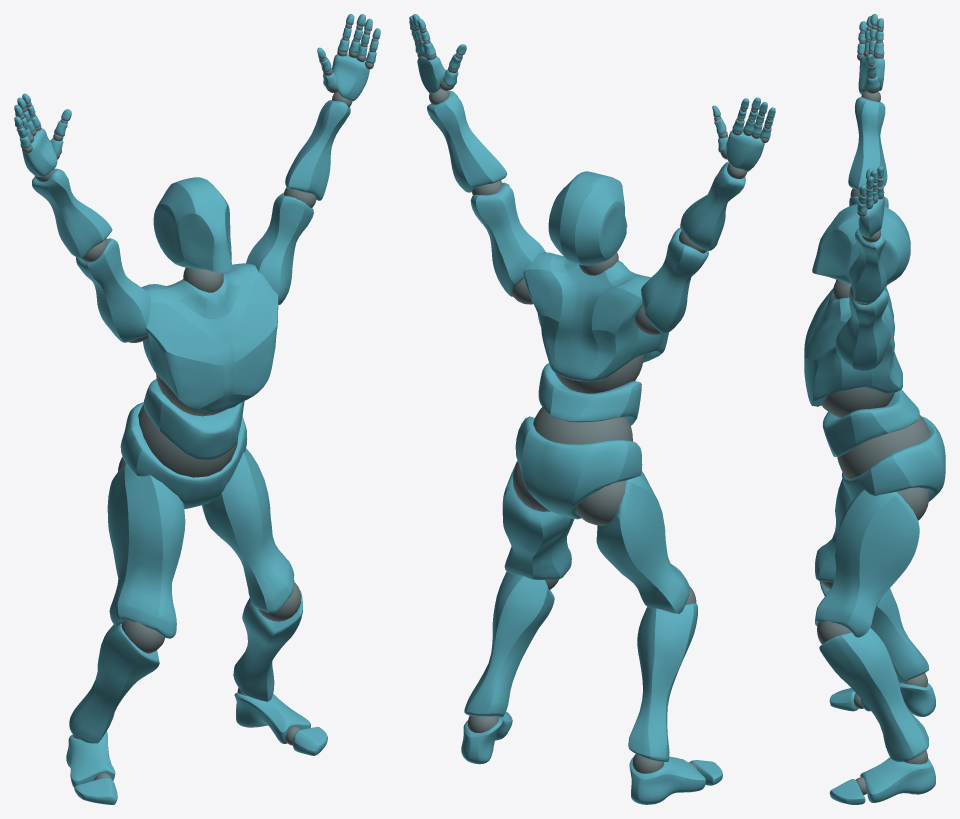
File: YBot_PostBumpPose.fbx
3 views of the same model, side by side, from view 1: azimuth 30°, elevation 25°; view 2: azimuth 150°, elevation 25°; view 3: azimuth 270°, elevation 25° (orthographic). The views are drawn at different scales.
Parts seen in each view (by area): view 1: Alpha_Surface, Alpha_Joints; view 2: Alpha_Surface, Alpha_Joints; view 3: Alpha_Surface, Alpha_Joints.
Boxes of the visible parts, x1,y1,x2,y2 form: Alpha_Surface: (14, 14, 380, 804); Alpha_Joints: (16, 24, 378, 780); Alpha_Surface: (409, 14, 775, 804); Alpha_Joints: (411, 27, 773, 773); Alpha_Surface: (804, 14, 945, 804); Alpha_Joints: (817, 25, 929, 794).
Size of the model in its own units: 110 by 204 by 39.52.
